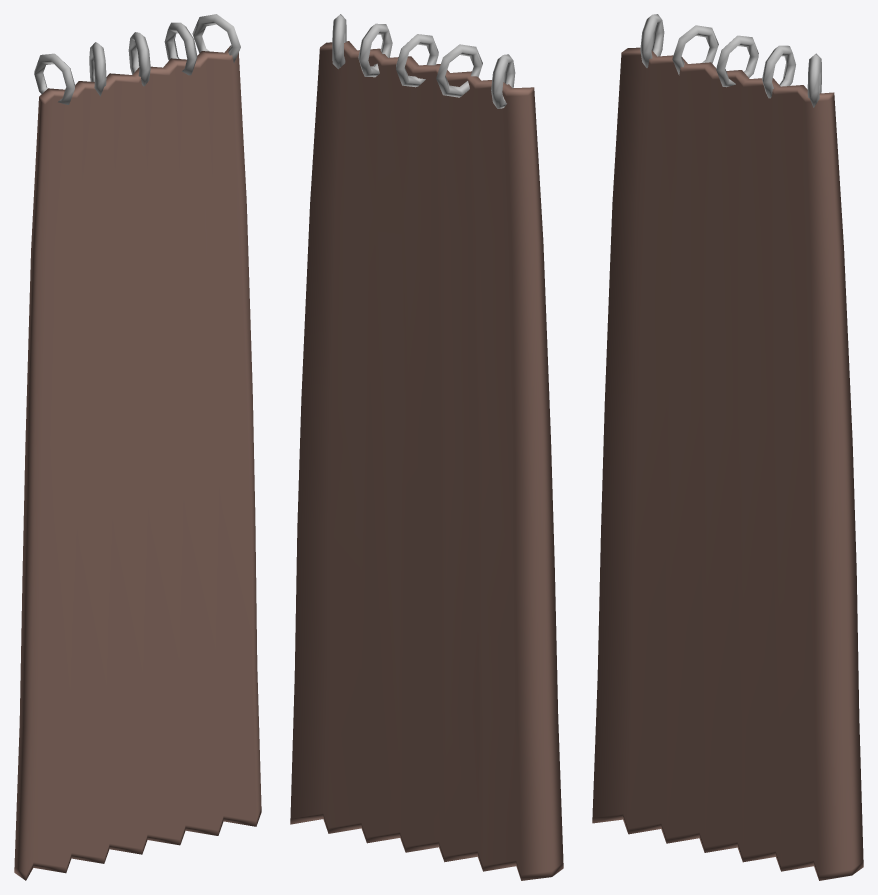
Rendered from curtain_011.fbx.
3 renders of one model, left to right at view 1: azimuth 30°, elevation 25°; view 2: azimuth 150°, elevation 25°; view 3: azimuth 330°, elevation 25°, orthographic.
Visible parts, largest first — view 1: curtain_011; view 2: curtain_011; view 3: curtain_011.
Boxes of the visible parts, x1=… form: curtain_011: x1=14, y1=14, x2=261, y2=880; curtain_011: x1=290, y1=14, x2=563, y2=880; curtain_011: x1=592, y1=14, x2=863, y2=880.
Size of the model in its own units: 112 by 25.27 by 348.
